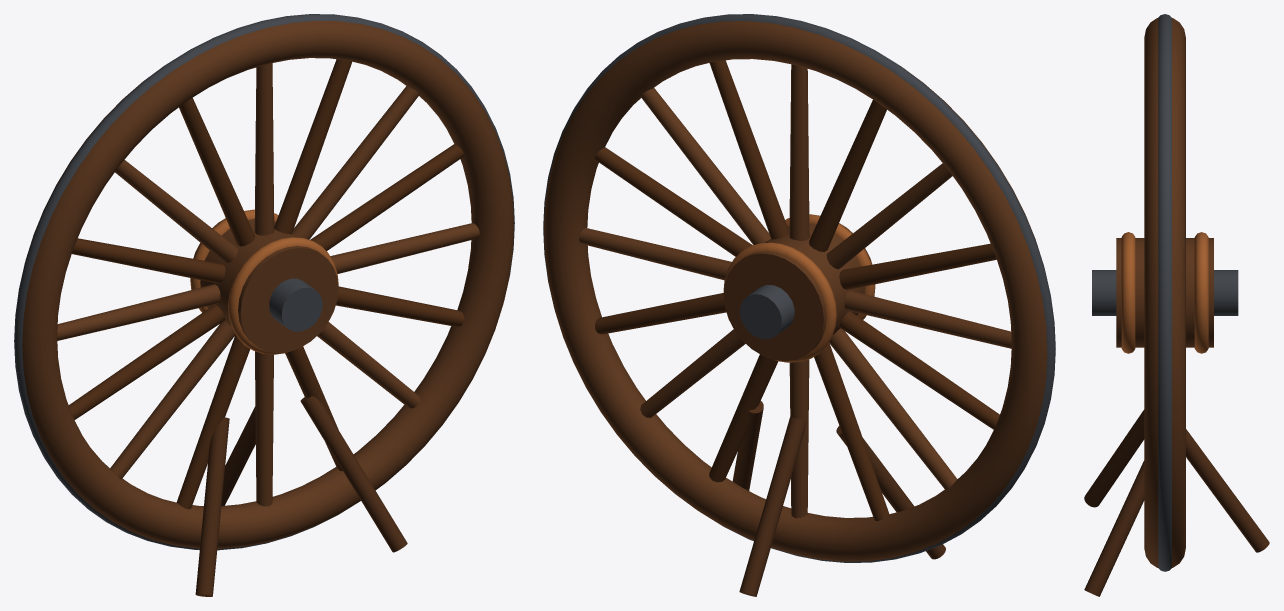
File: mahabharata-wheel.glb
3 renders of one model, left to right at view 1: azimuth 30°, elevation 25°; view 2: azimuth 150°, elevation 25°; view 3: azimuth 270°, elevation 25°, orthographic. The views are drawn at different scales.
Parts seen in each view (by area): view 1: wheel-felloe-rim, hub-wood-core, wheel-iron-tire, chariot-spoke-10, chariot-spoke-2, chariot-spoke-3, chariot-spoke-9, stand-r, chariot-spoke-4, chariot-spoke-8, stand-l, chariot-spoke-1 (+12 smaller); view 2: wheel-felloe-rim, hub-wood-core, wheel-iron-tire, chariot-spoke-10, chariot-spoke-2, chariot-spoke-3, chariot-spoke-9, stand-b, chariot-spoke-4, chariot-spoke-11, chariot-spoke-8, chariot-spoke-1 (+12 smaller); view 3: wheel-felloe-rim, wheel-iron-tire, hub-wood-core, stand-b, chariot-axle-spindle, stand-r, hub-bronze-front, hub-bronze-back, stand-l.
Boxes of the visible parts, left/top/right/bottom form: wheel-felloe-rim: left=22, top=20, right=514, bottom=548; hub-wood-core: left=193, top=218, right=338, bottom=352; wheel-iron-tire: left=14, top=14, right=514, bottom=550; chariot-spoke-10: left=110, top=321, right=235, bottom=479; chariot-spoke-2: left=292, top=86, right=419, bottom=239; chariot-spoke-3: left=274, top=59, right=351, bottom=234; chariot-spoke-9: left=69, top=304, right=225, bottom=419; stand-r: left=300, top=396, right=407, bottom=552; chariot-spoke-4: left=254, top=63, right=274, bottom=235; chariot-spoke-8: left=57, top=284, right=220, bottom=340; stand-l: left=195, top=417, right=229, bottom=596; chariot-spoke-1: left=310, top=144, right=464, bottom=250; wheel-felloe-rim: left=544, top=21, right=1047, bottom=561; hub-wood-core: left=723, top=223, right=872, bottom=361; wheel-iron-tire: left=543, top=14, right=1055, bottom=562; chariot-spoke-10: left=829, top=328, right=957, bottom=490; chariot-spoke-2: left=640, top=88, right=770, bottom=245; chariot-spoke-3: left=709, top=60, right=789, bottom=239; chariot-spoke-9: left=839, top=311, right=999, bottom=429; stand-b: left=739, top=416, right=805, bottom=596; chariot-spoke-4: left=789, top=64, right=809, bottom=240; chariot-spoke-11: left=814, top=342, right=889, bottom=520; chariot-spoke-8: left=844, top=290, right=1011, bottom=348; chariot-spoke-1: left=595, top=147, right=752, bottom=256; wheel-felloe-rim: left=1144, top=18, right=1185, bottom=567; wheel-iron-tire: left=1158, top=14, right=1171, bottom=571; hub-wood-core: left=1116, top=238, right=1213, bottom=347; stand-b: left=1186, top=429, right=1269, bottom=552; chariot-axle-spindle: left=1092, top=270, right=1238, bottom=315; stand-r: left=1084, top=460, right=1144, bottom=596; hub-bronze-front: left=1121, top=232, right=1135, bottom=353; hub-bronze-back: left=1194, top=232, right=1208, bottom=353; stand-l: left=1084, top=409, right=1144, bottom=507.
Size of the model in its own units: 0.9074 by 0.917 by 0.3014.
